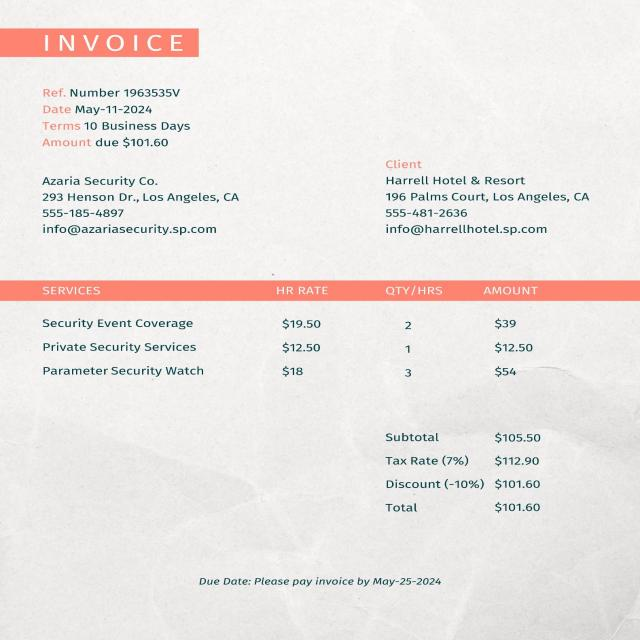paragraph: (382, 158, 596, 236), (381, 429, 545, 516), (39, 175, 242, 241), (40, 85, 194, 154), (200, 576, 441, 594), (36, 30, 198, 56)
table: (0, 280, 640, 392)
